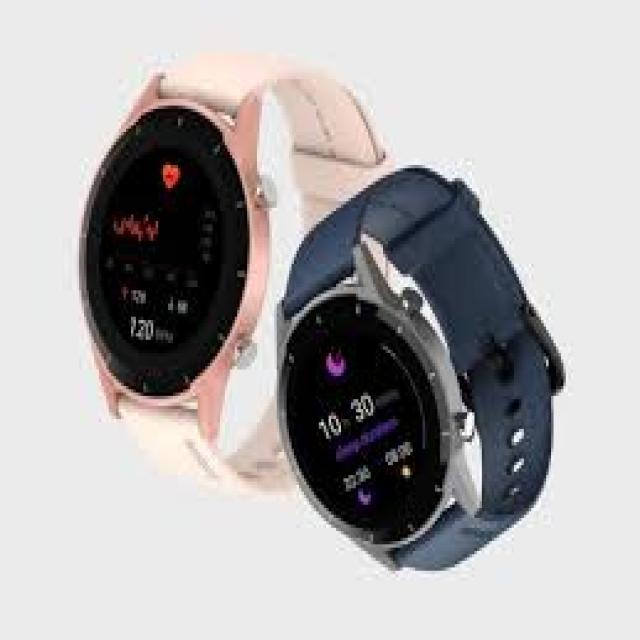objects: (77, 53, 385, 496), (277, 165, 563, 571)
